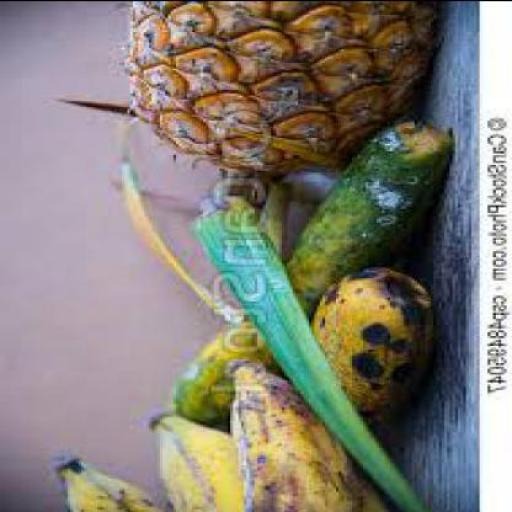biodegradable: (171, 118, 449, 422), (189, 203, 426, 510), (127, 1, 439, 177), (225, 356, 393, 510), (116, 158, 236, 323), (306, 264, 431, 422), (149, 410, 244, 511), (212, 159, 282, 258), (48, 452, 160, 510)
